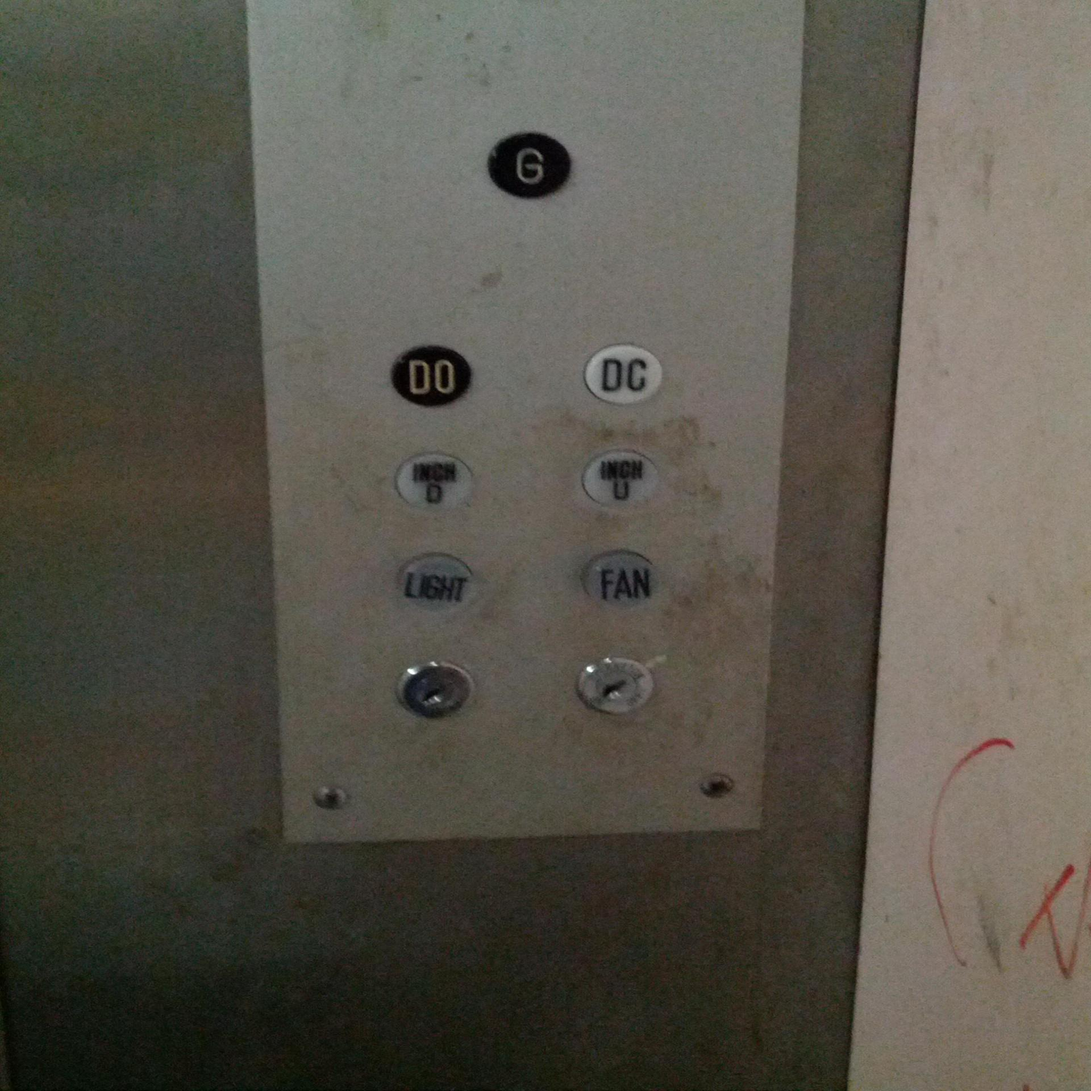G: (486, 132, 572, 198)
keyhole: (573, 653, 656, 715), (395, 659, 474, 720)
unknown: (388, 343, 473, 409), (582, 342, 665, 405), (397, 552, 478, 616), (579, 448, 661, 506), (394, 452, 474, 510), (580, 549, 658, 608)
